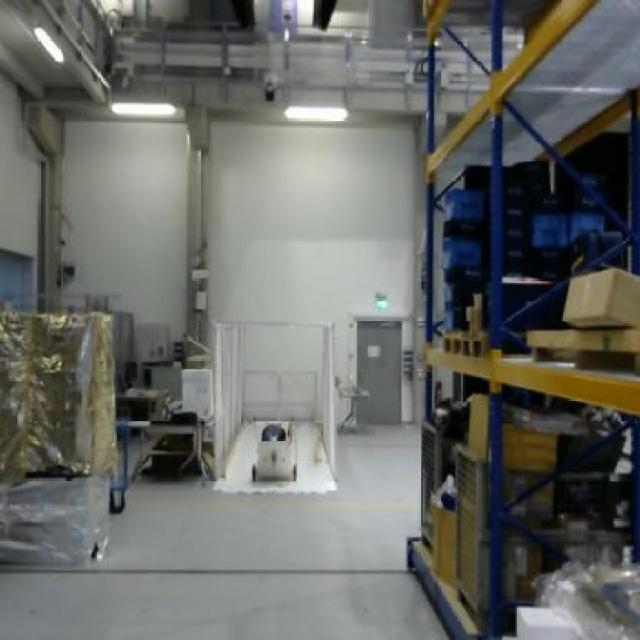box: (560, 266, 640, 326)
